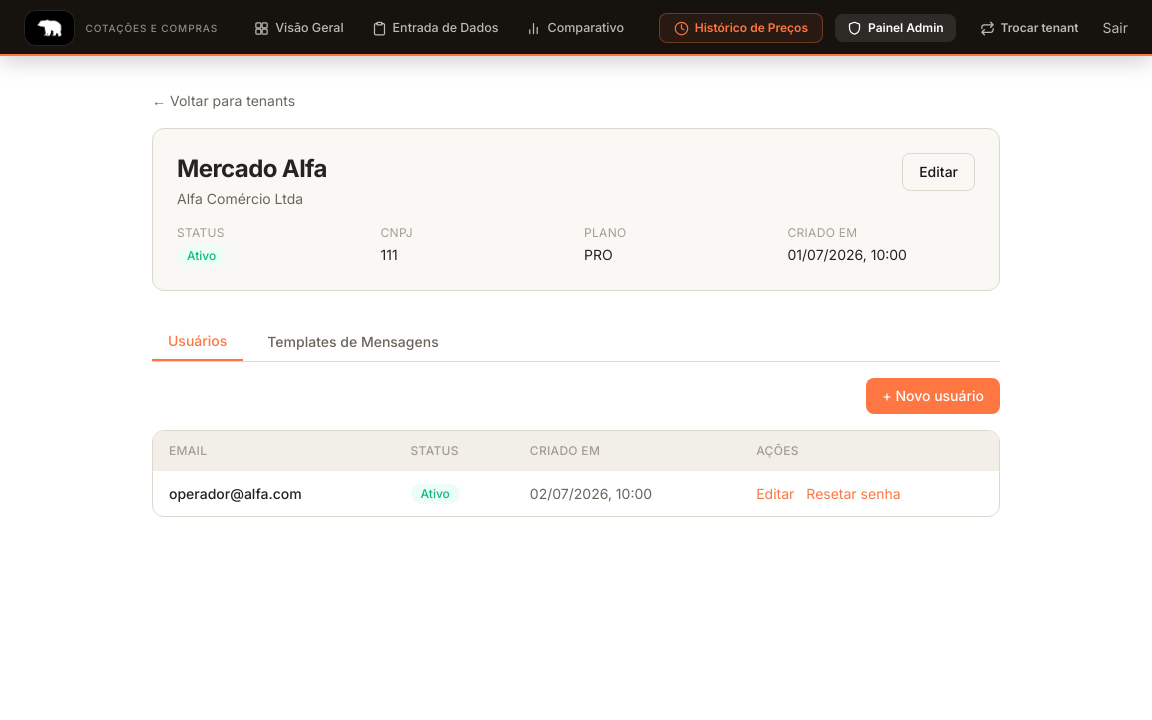
Scenario: TenantDetalhePage — ação Resetar senha › mostra mensagem de erro quando o reset falha
Expected: the text "operador@alfa.com" is shown, [153,471,395,516]
Click the button "Resetar senha". click: [853, 494]
box: [806,484,900,504]
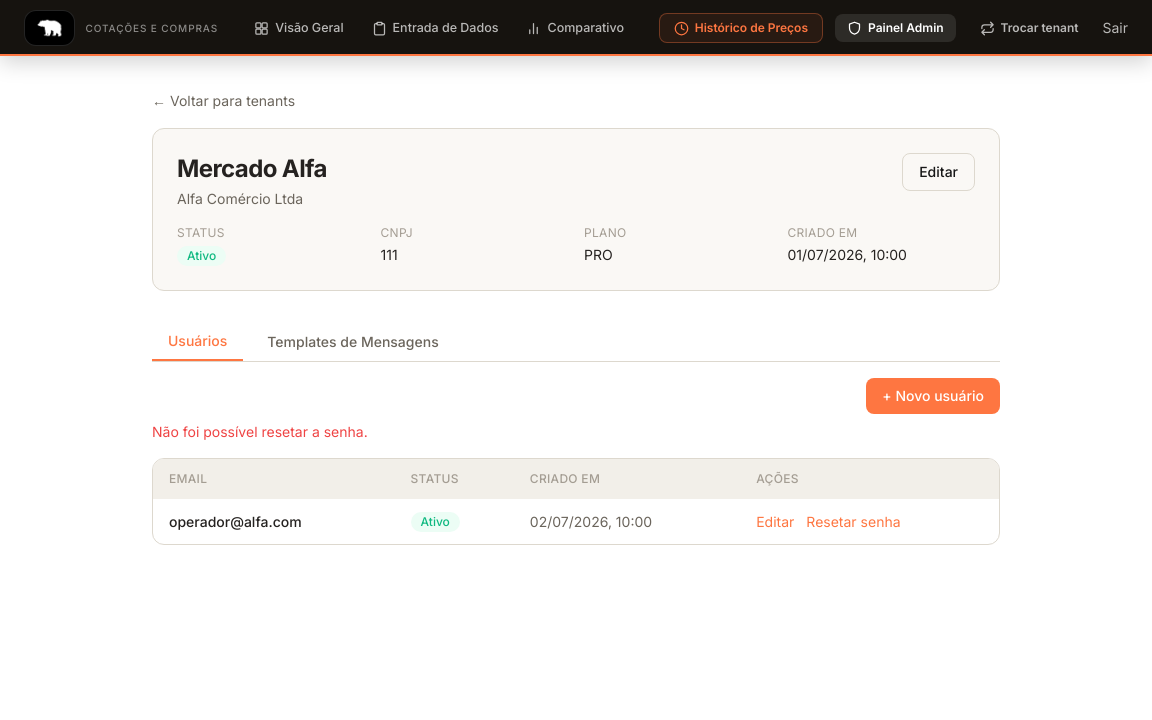
Now the text "Não foi possível resetar a senha." is shown, box [152,423,368,440]
